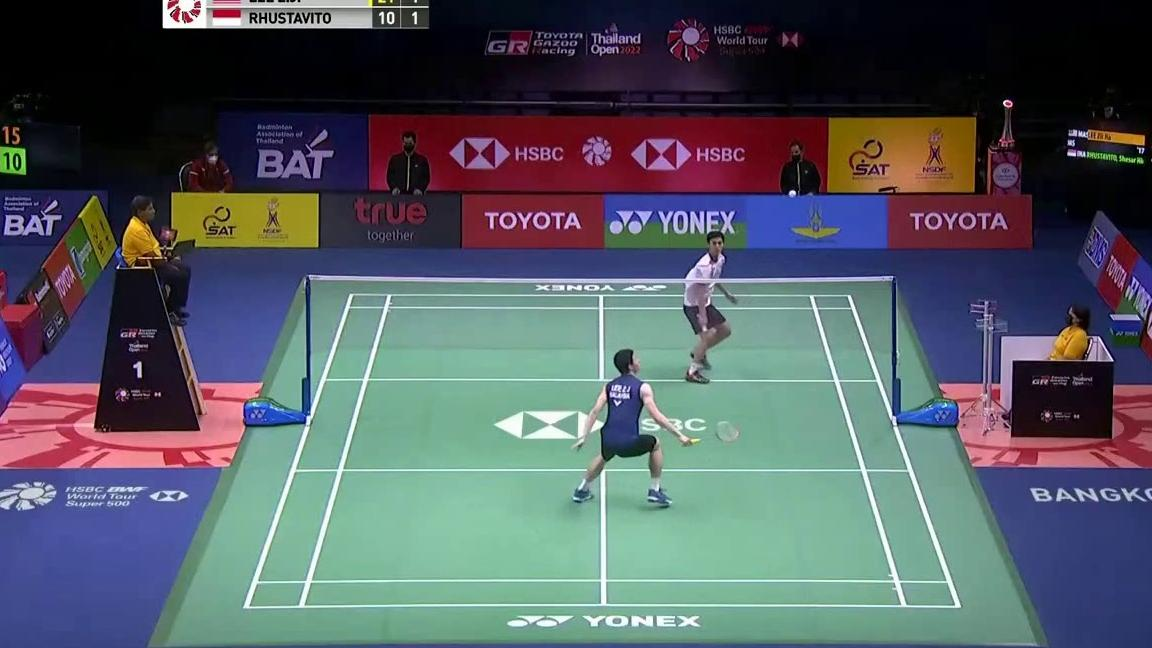racket: (682, 421, 741, 446), (697, 308, 721, 351)
shuttle: (789, 189, 796, 198)
